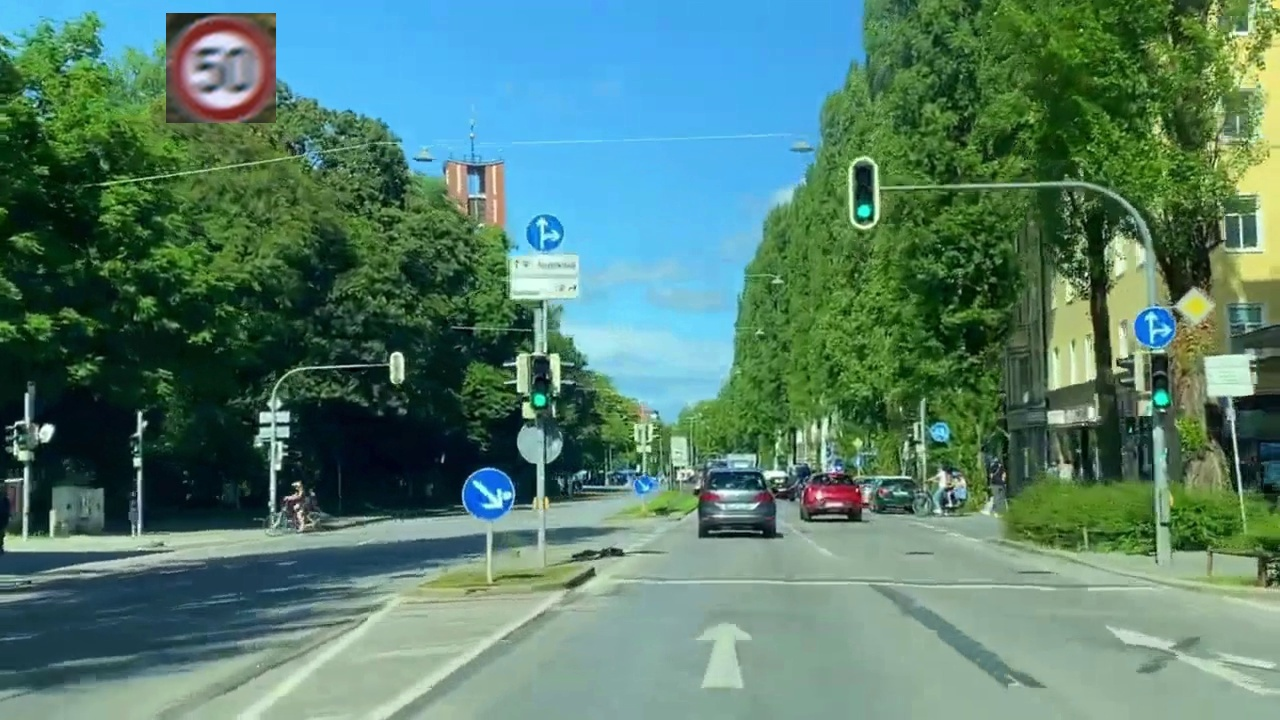Speed 50: (166, 13, 276, 123)
